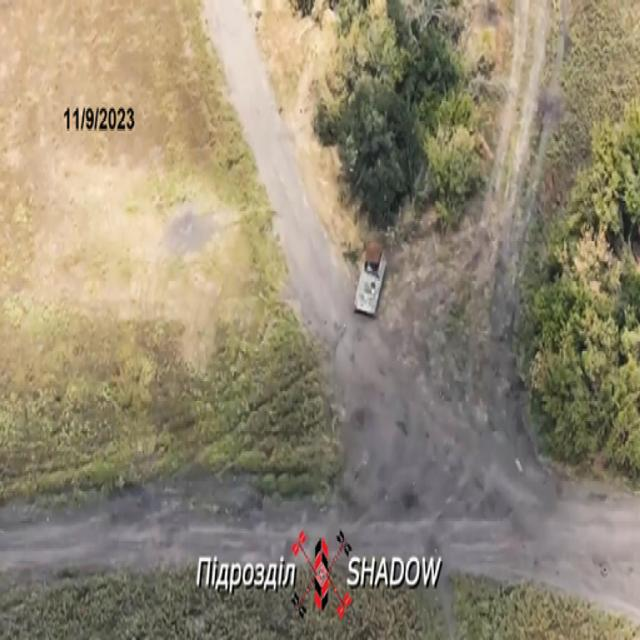APC-IFV: (350, 229, 388, 324)
